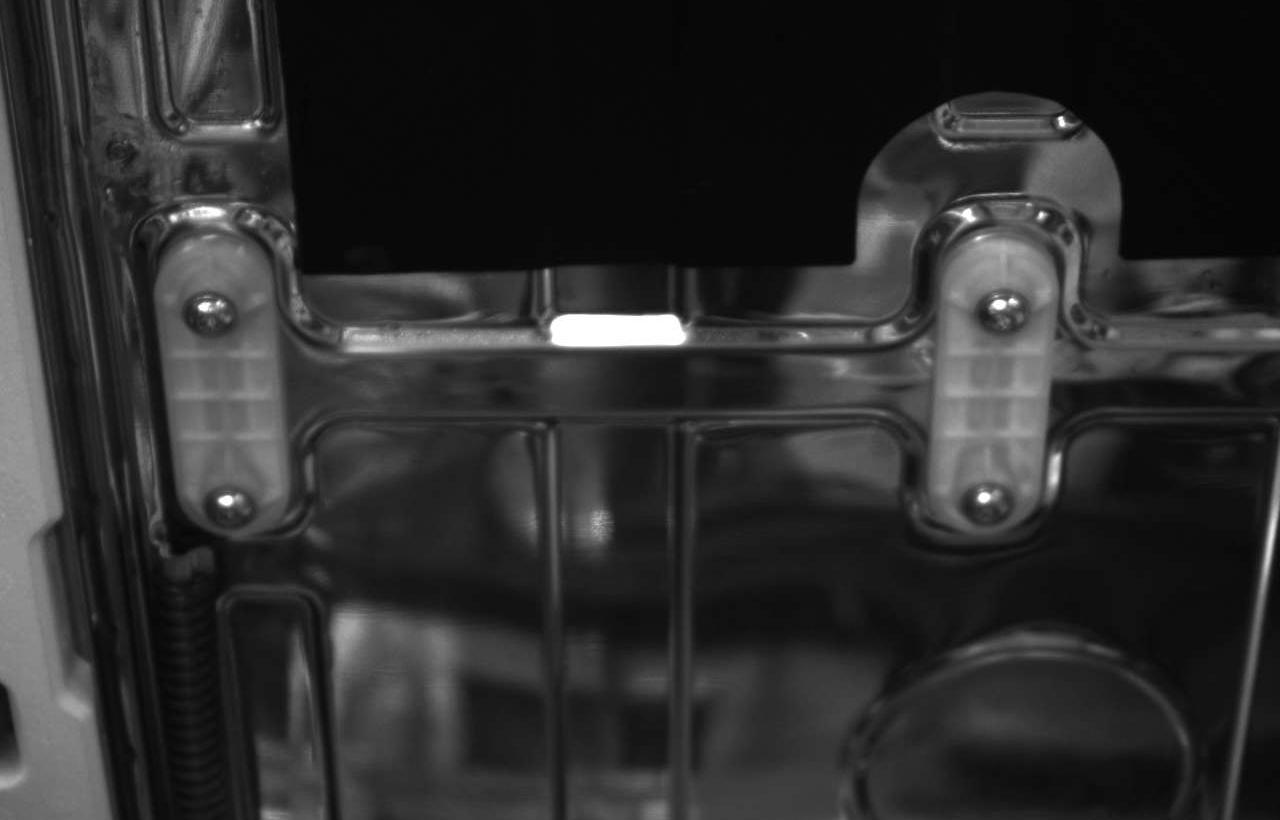vida-ok: (171, 276, 257, 353), (966, 276, 1054, 348), (190, 477, 271, 542), (947, 473, 1022, 532)
